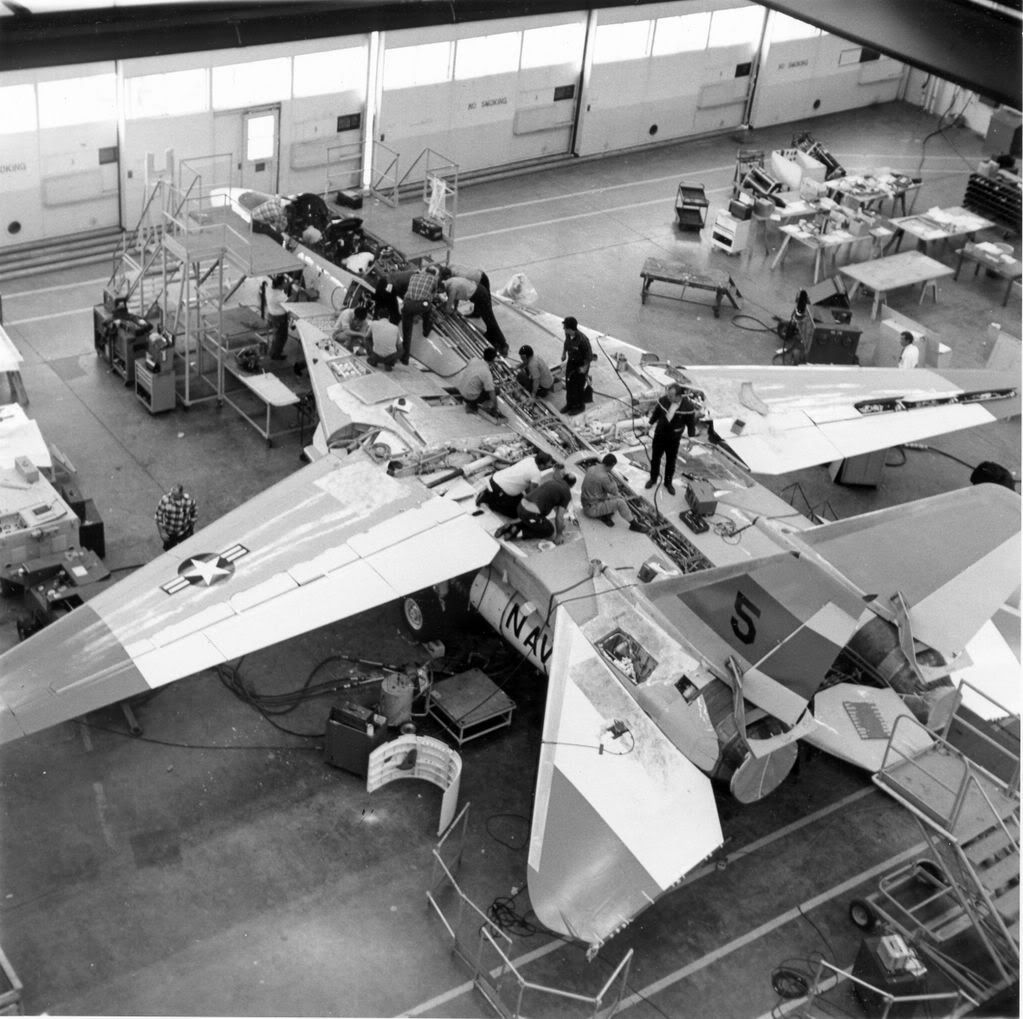F14: (1, 187, 1021, 963)
